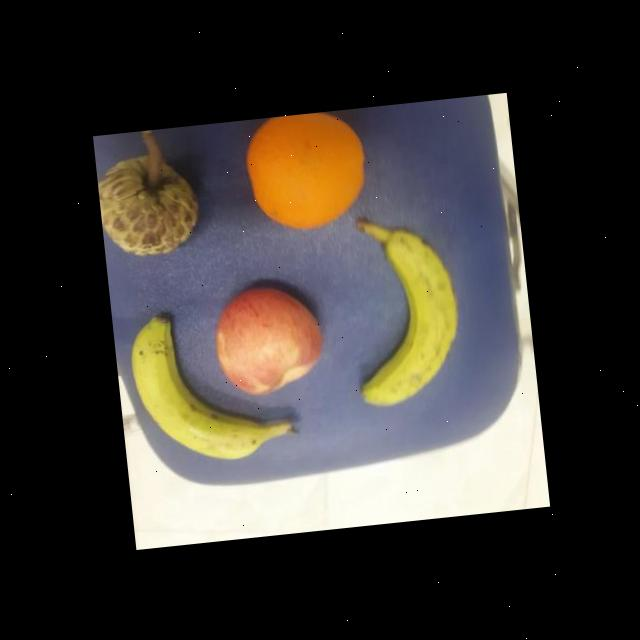Sakya fruit: (94, 146, 205, 263)
apple: (206, 274, 330, 402)
banana: (337, 216, 471, 414), (123, 304, 263, 476)
orange: (232, 107, 372, 236)
